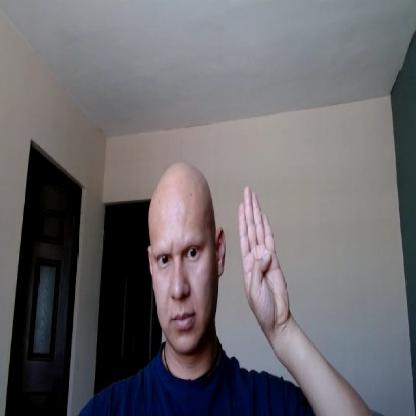B: (238, 186, 290, 328)
